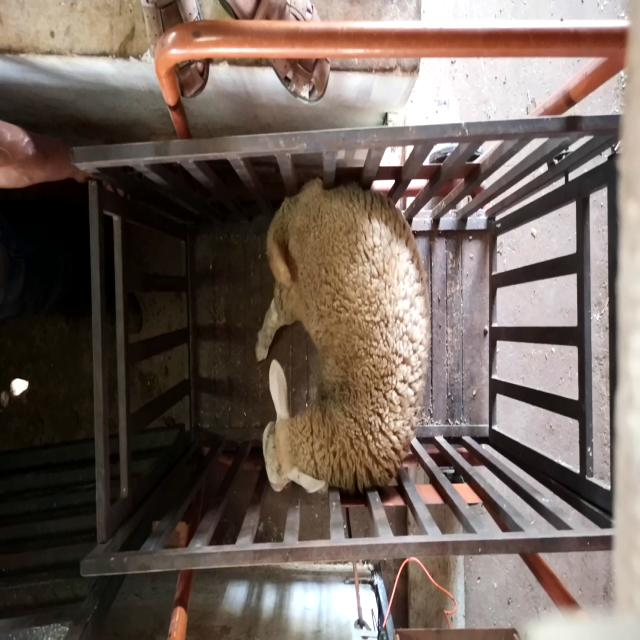sheep: (255, 178, 430, 496)
